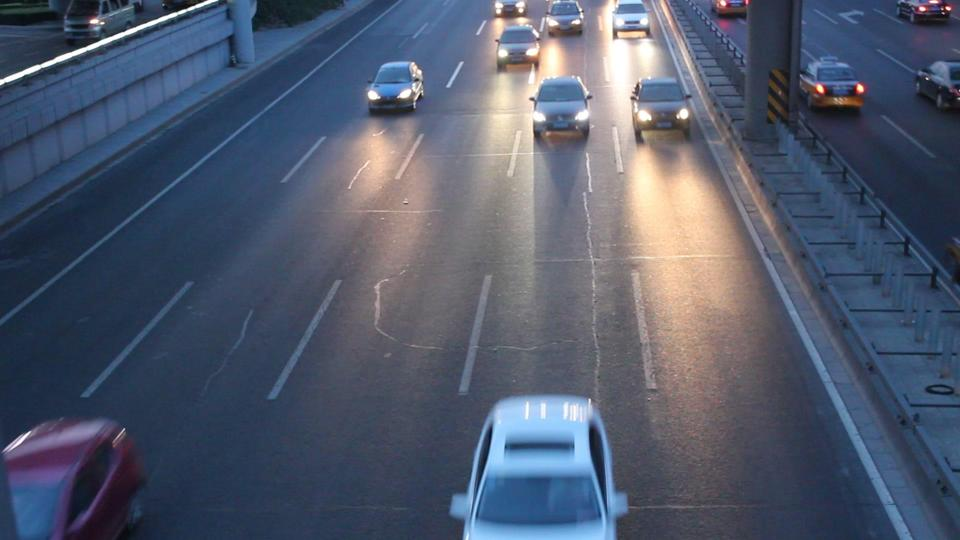Car: (462, 395, 615, 540), (1, 416, 145, 540), (789, 61, 861, 106), (632, 76, 687, 131), (533, 78, 587, 131), (369, 64, 422, 107), (914, 57, 960, 106), (496, 27, 538, 61), (545, 1, 581, 32), (612, 1, 647, 30), (710, 1, 752, 15), (493, 1, 523, 14)
